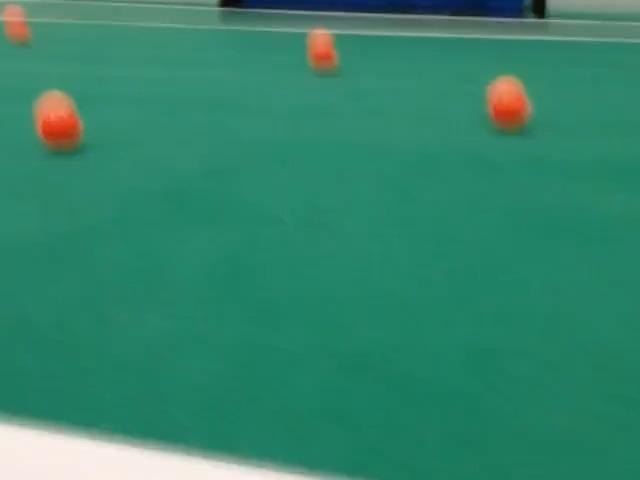Ball: (33, 90, 82, 150), (486, 76, 531, 131), (306, 28, 337, 72), (1, 4, 31, 44), (4, 21, 31, 45)
